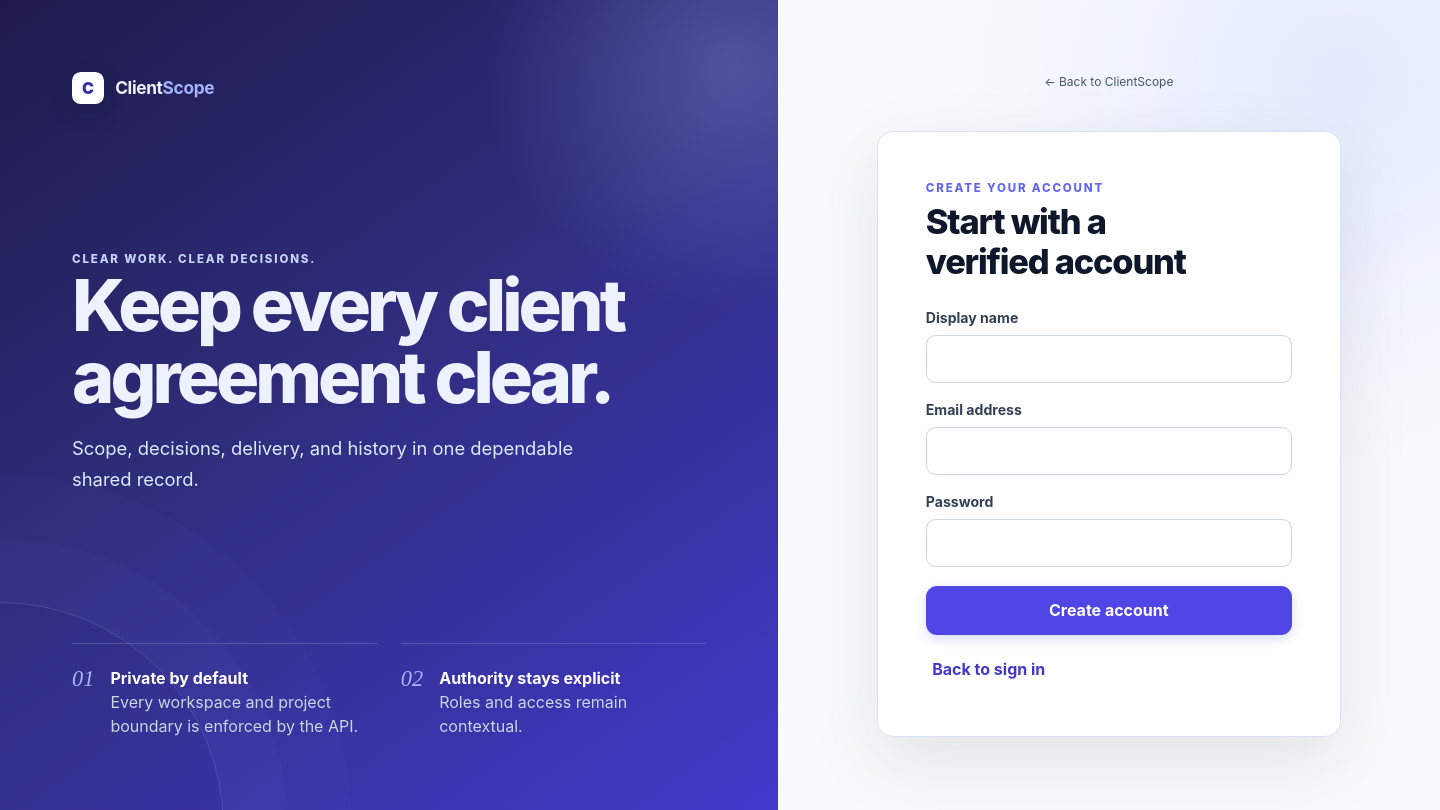
Test: Slice 1.1 UI workflows › keeps duplicate-signup guidance neutral when no session is created
In the field labelled "Display name": (1109, 359) [926,335,1292,383], type "Existing Person"
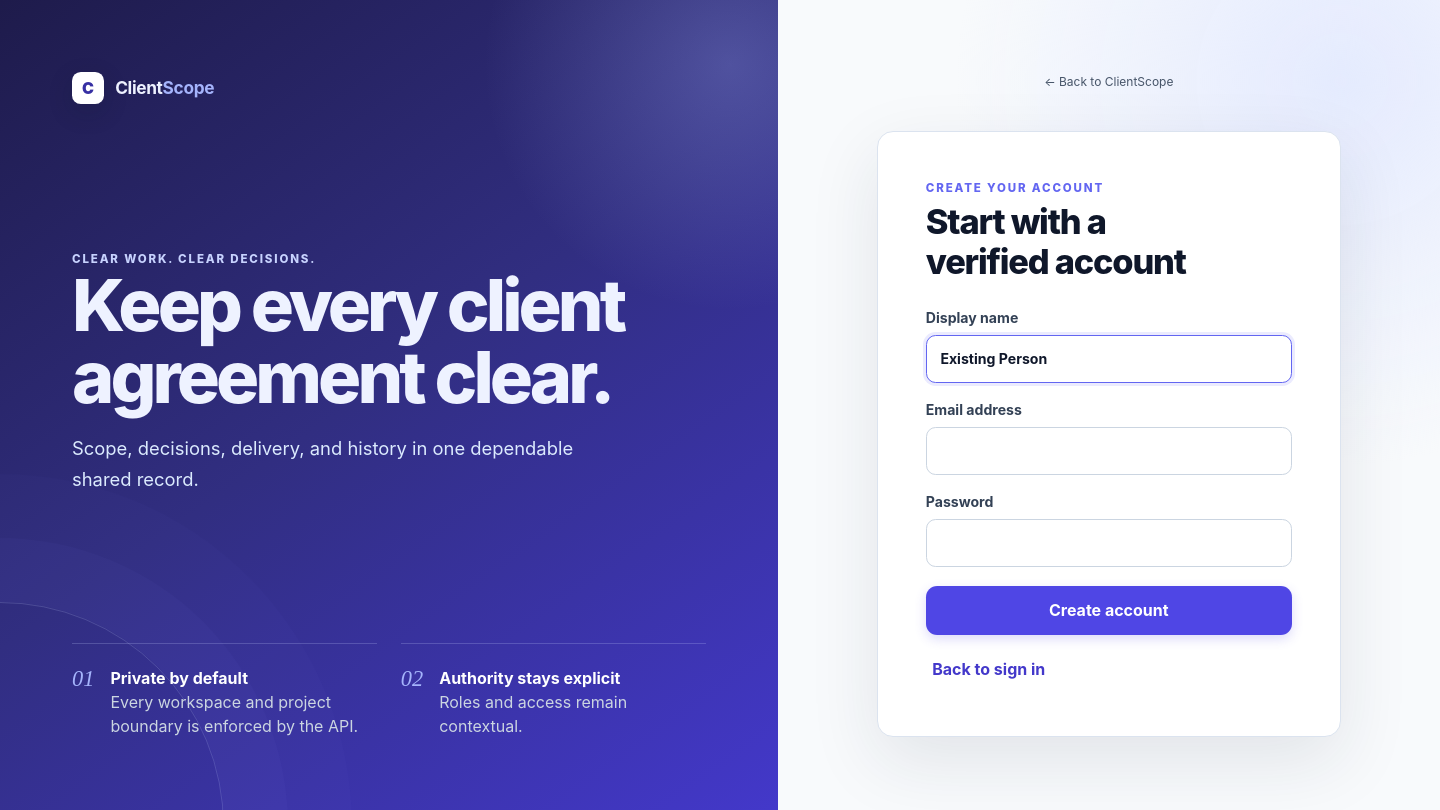
In the field labelled "Email address": (1109, 451) [926,427,1292,475], type "existing@example.com"
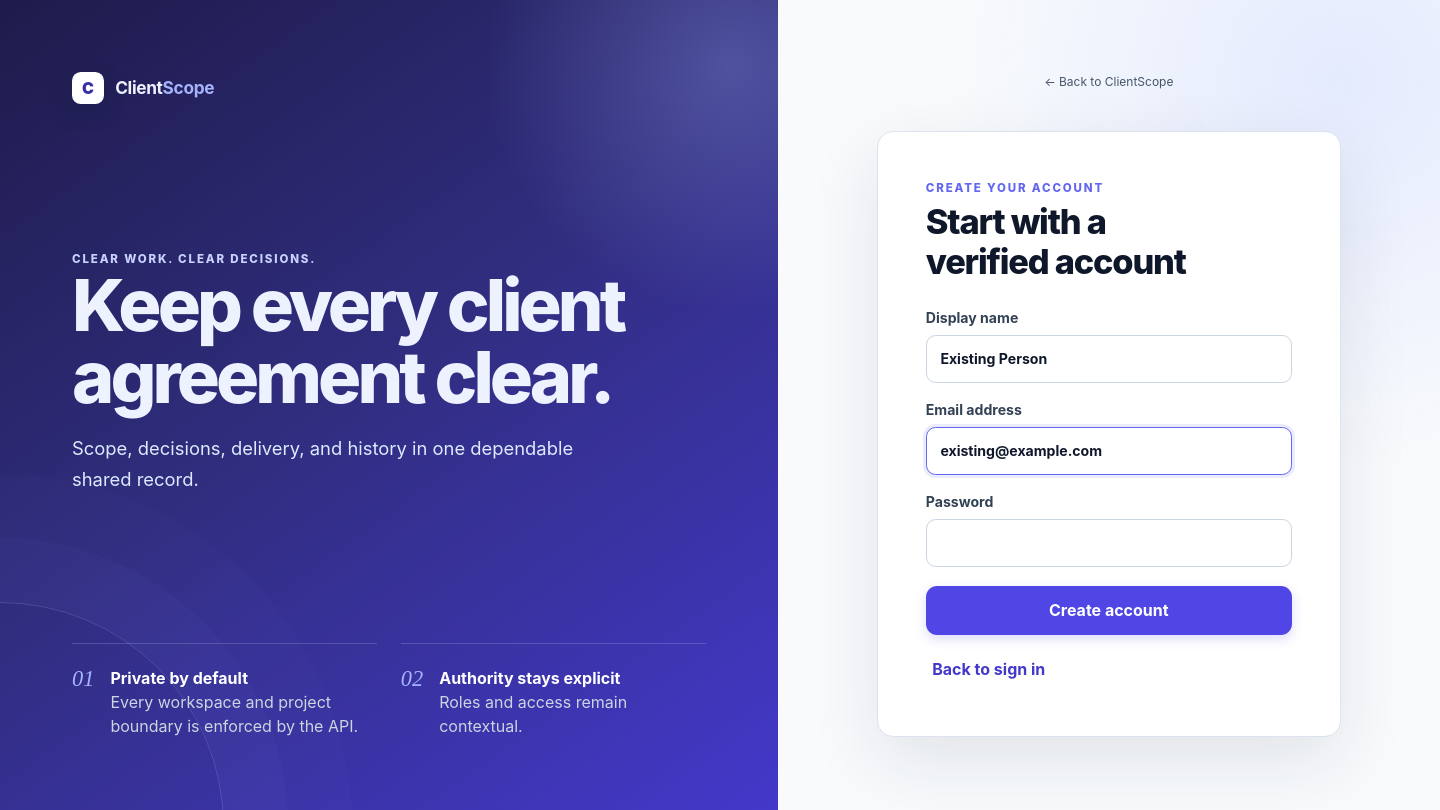
In the password field labelled "Password": (1109, 543) [926,519,1292,567], type "correct horse battery staple"
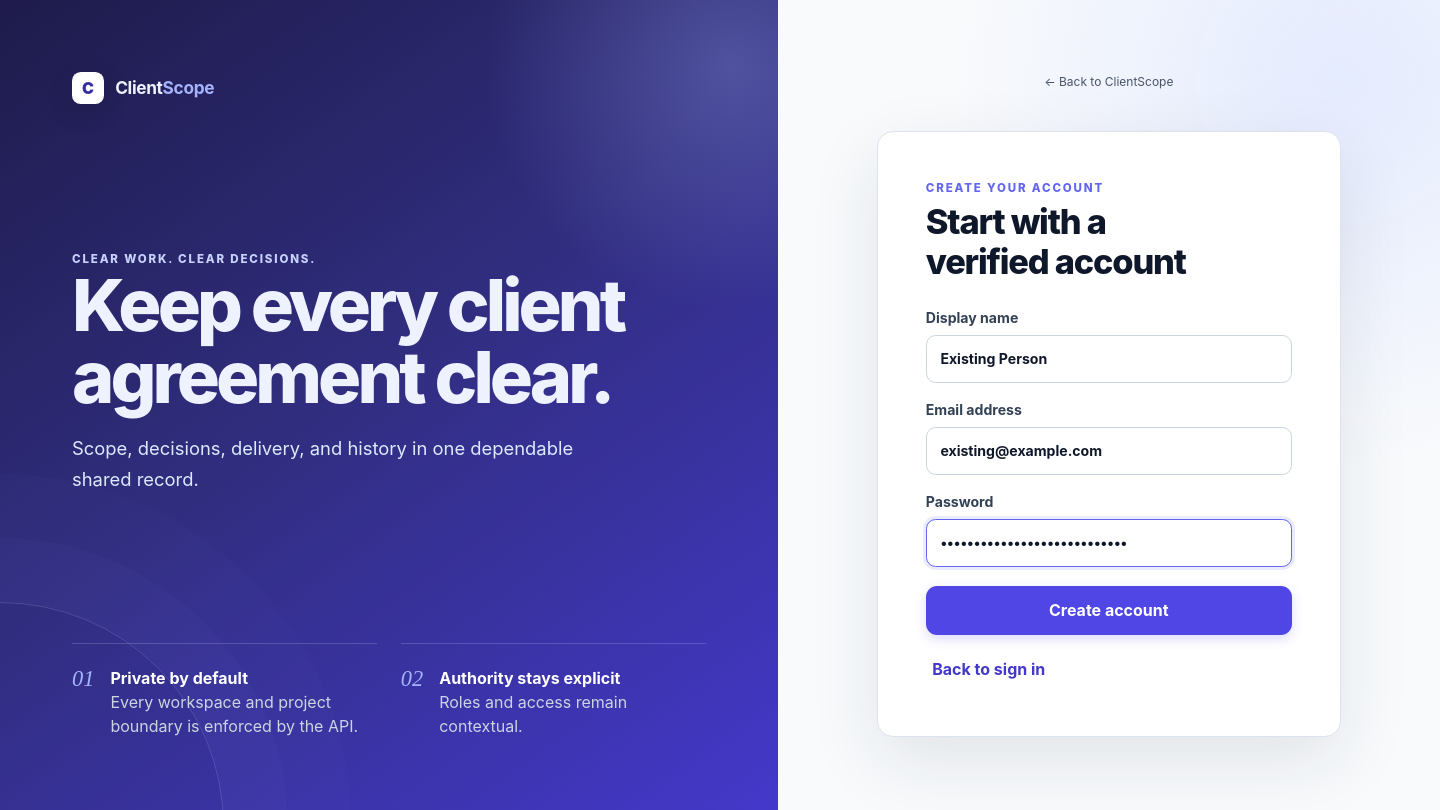
Click the button "Create account": (1109, 610) [926,586,1292,635]
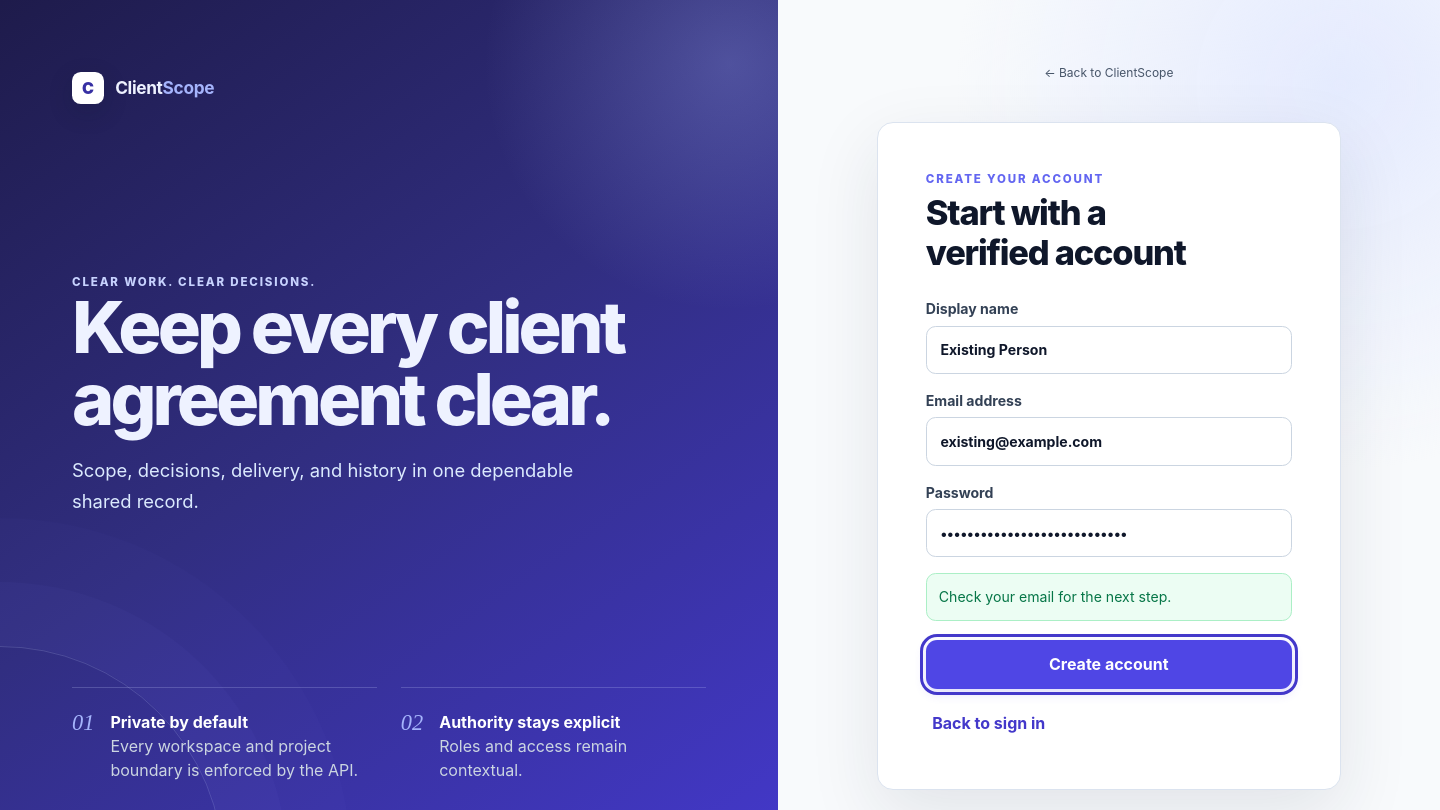
Now the message reads "Check your email for the next step.", box [939,588,1171,605]
